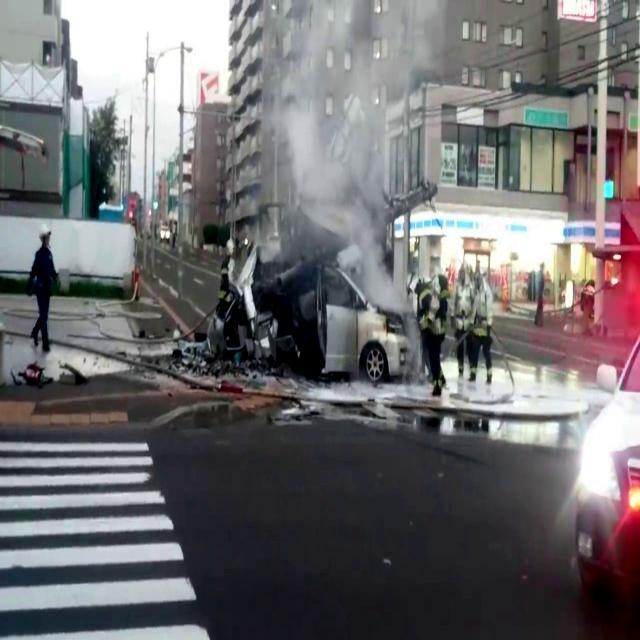Smoke: (271, 0, 410, 287)
